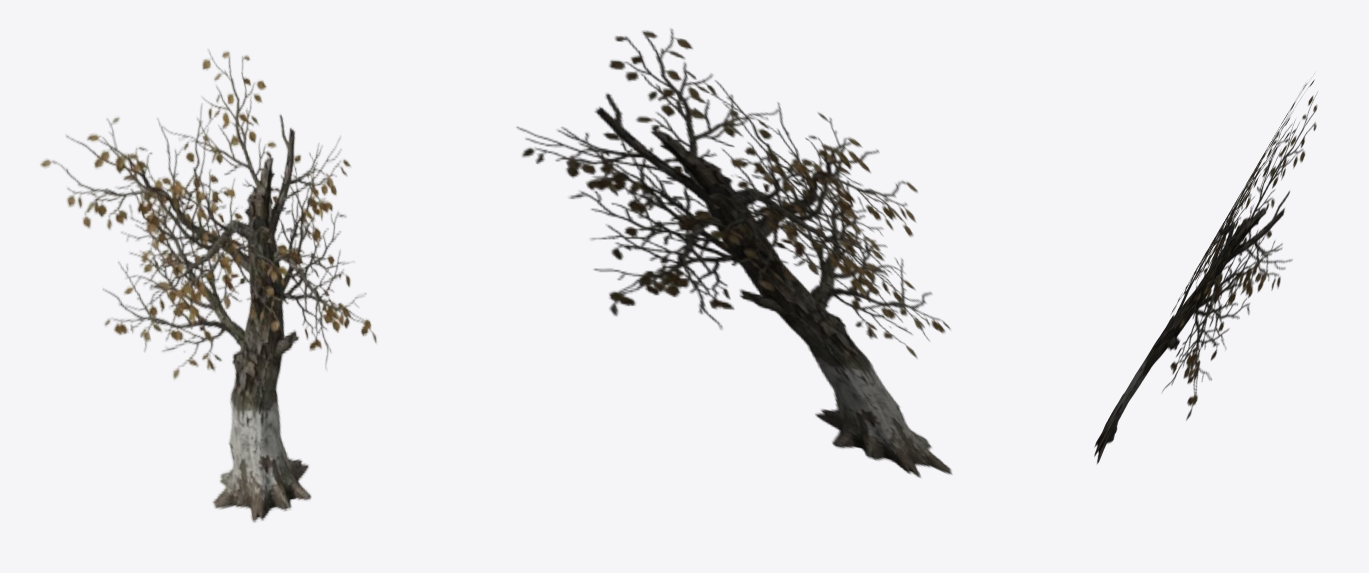
File: autumn_tree_1.glb
The picture shows the model from 3 angles, left to right: view 1: azimuth 30°, elevation 25°; view 2: azimuth 150°, elevation 25°; view 3: azimuth 270°, elevation 25°; orthographic projection. The views are drawn at different scales.
Parts seen in each view (by area): view 1: autumn_tree_1; view 2: autumn_tree_1; view 3: autumn_tree_1.
Part boxes in pixels (x1,y1,x2,y2): autumn_tree_1: [40, 48, 377, 522]; autumn_tree_1: [516, 28, 952, 477]; autumn_tree_1: [1094, 73, 1317, 463].
Size of the model in its own units: 1.67 by 2.12 by 1.24.
1 material, 1 textured.
